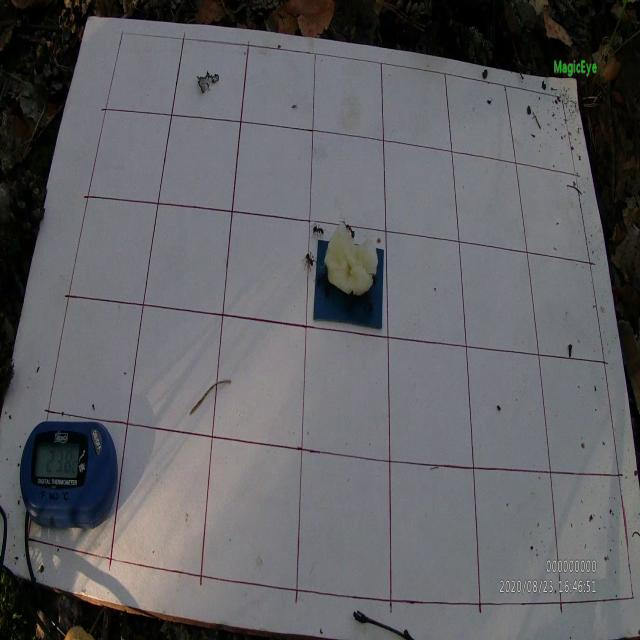Ant: (302, 251, 317, 272), (311, 223, 329, 240), (346, 223, 354, 239)
